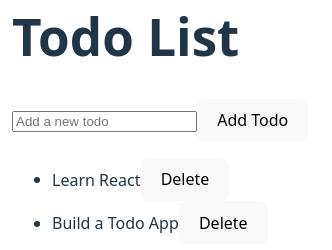
it: TodoList Component › deletes a todo item
Step 1. Click the button "Delete" next to "Learn React" → (185, 180), box top-left (140, 158), bottom-right (230, 201)
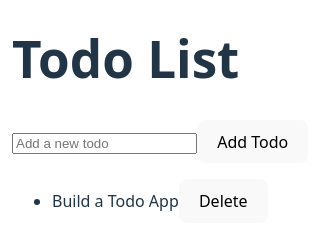
Now the text "Learn React" is gone
